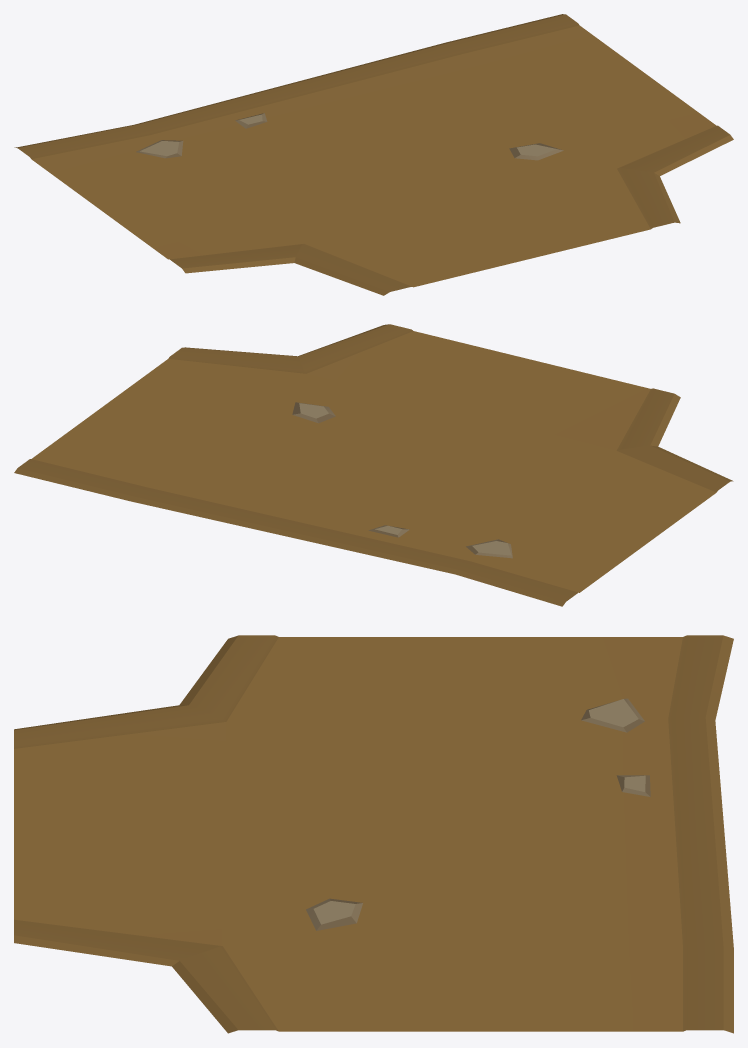
The model's file is Path_Intersection_03.gltf.
The picture shows the model from 3 angles, top to bottom: view 1: azimuth 30°, elevation 25°; view 2: azimuth 150°, elevation 25°; view 3: azimuth 270°, elevation 25°; orthographic projection. The views are drawn at different scales.
Parts seen in each view (by area): view 1: SF_Env_Path_Intersection_03; view 2: SF_Env_Path_Intersection_03; view 3: SF_Env_Path_Intersection_03.
Part boxes in pixels (box(x1,y1,x2,y2)): SF_Env_Path_Intersection_03: box(14, 14, 733, 295); SF_Env_Path_Intersection_03: box(14, 324, 733, 606); SF_Env_Path_Intersection_03: box(14, 635, 733, 1033).
Size of the model in its own units: 0.1 by 0.000509 by 0.0771.
Materials: 1 (1 with a texture image).
